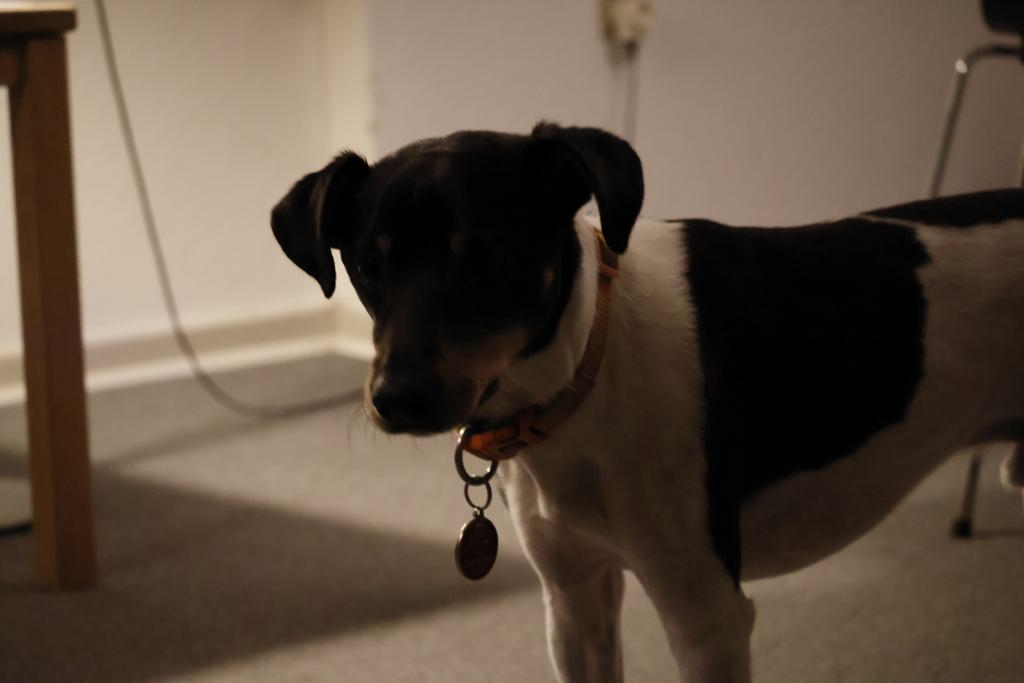Dog: (262, 111, 1024, 683)
